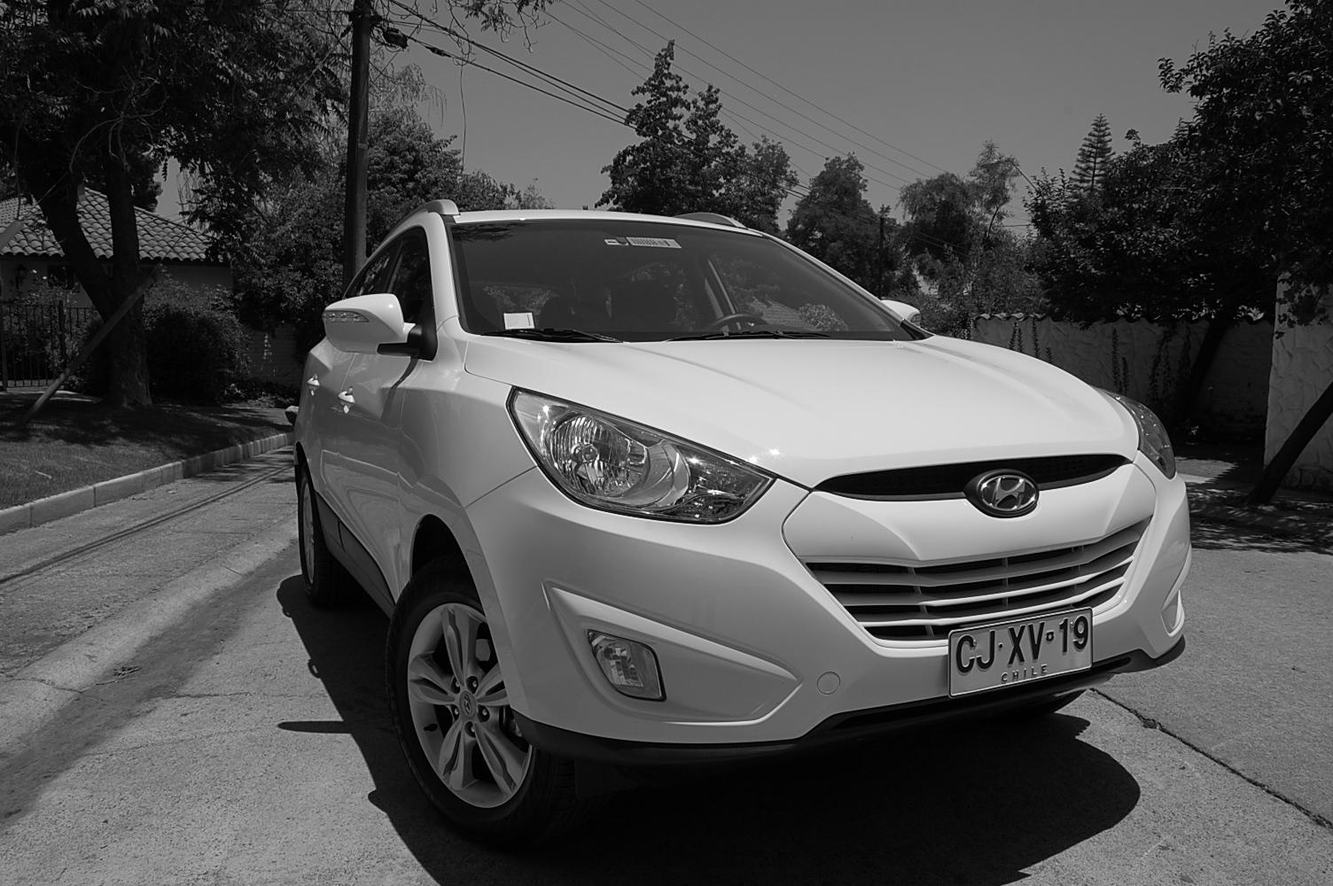car: (292, 198, 1197, 825)
